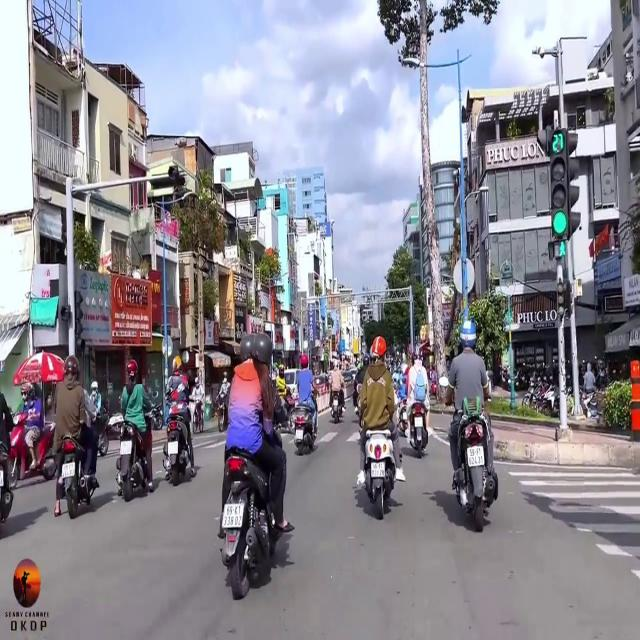bien_trang: (220, 499, 245, 531), (466, 444, 485, 469)
